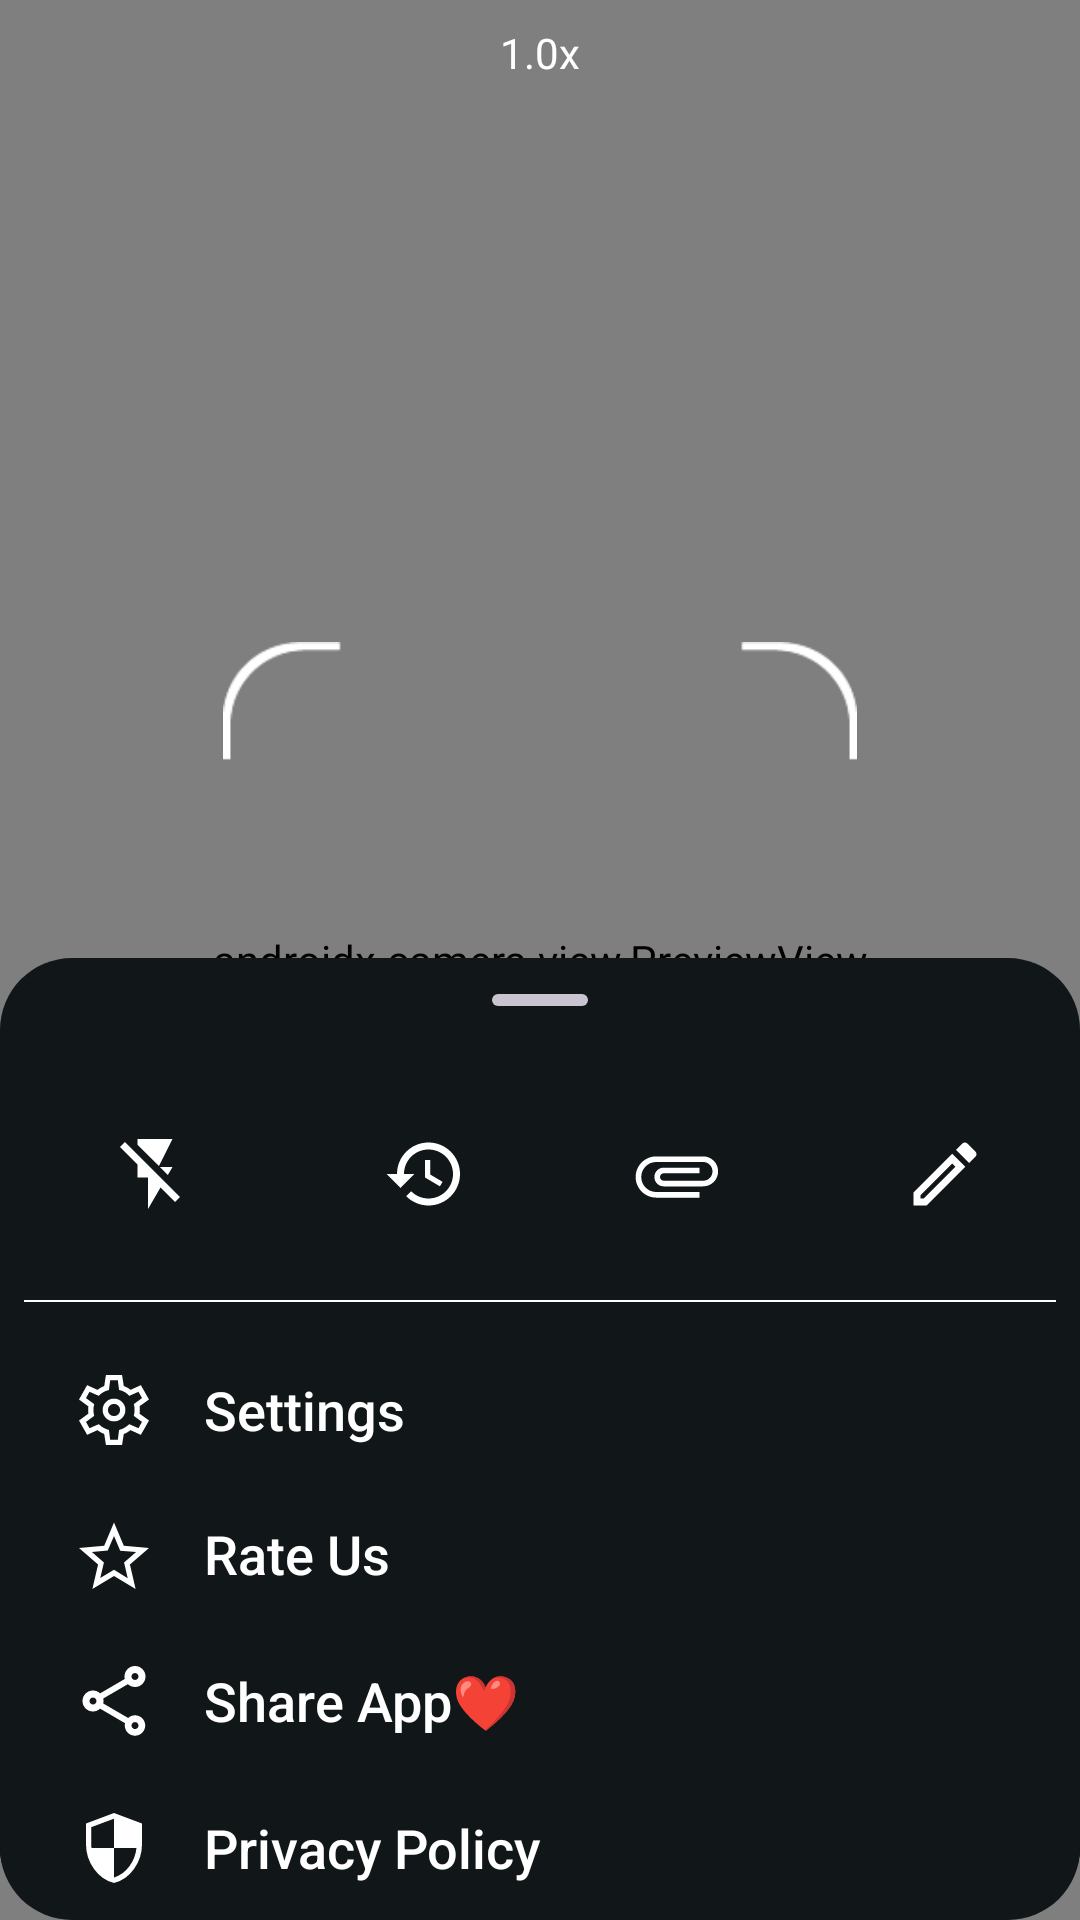

Icons on this 1080 x 1920 Android screen, each with the point to tap as [x,y]:
Flash Off: [150,1174]
History: [423,1174]
